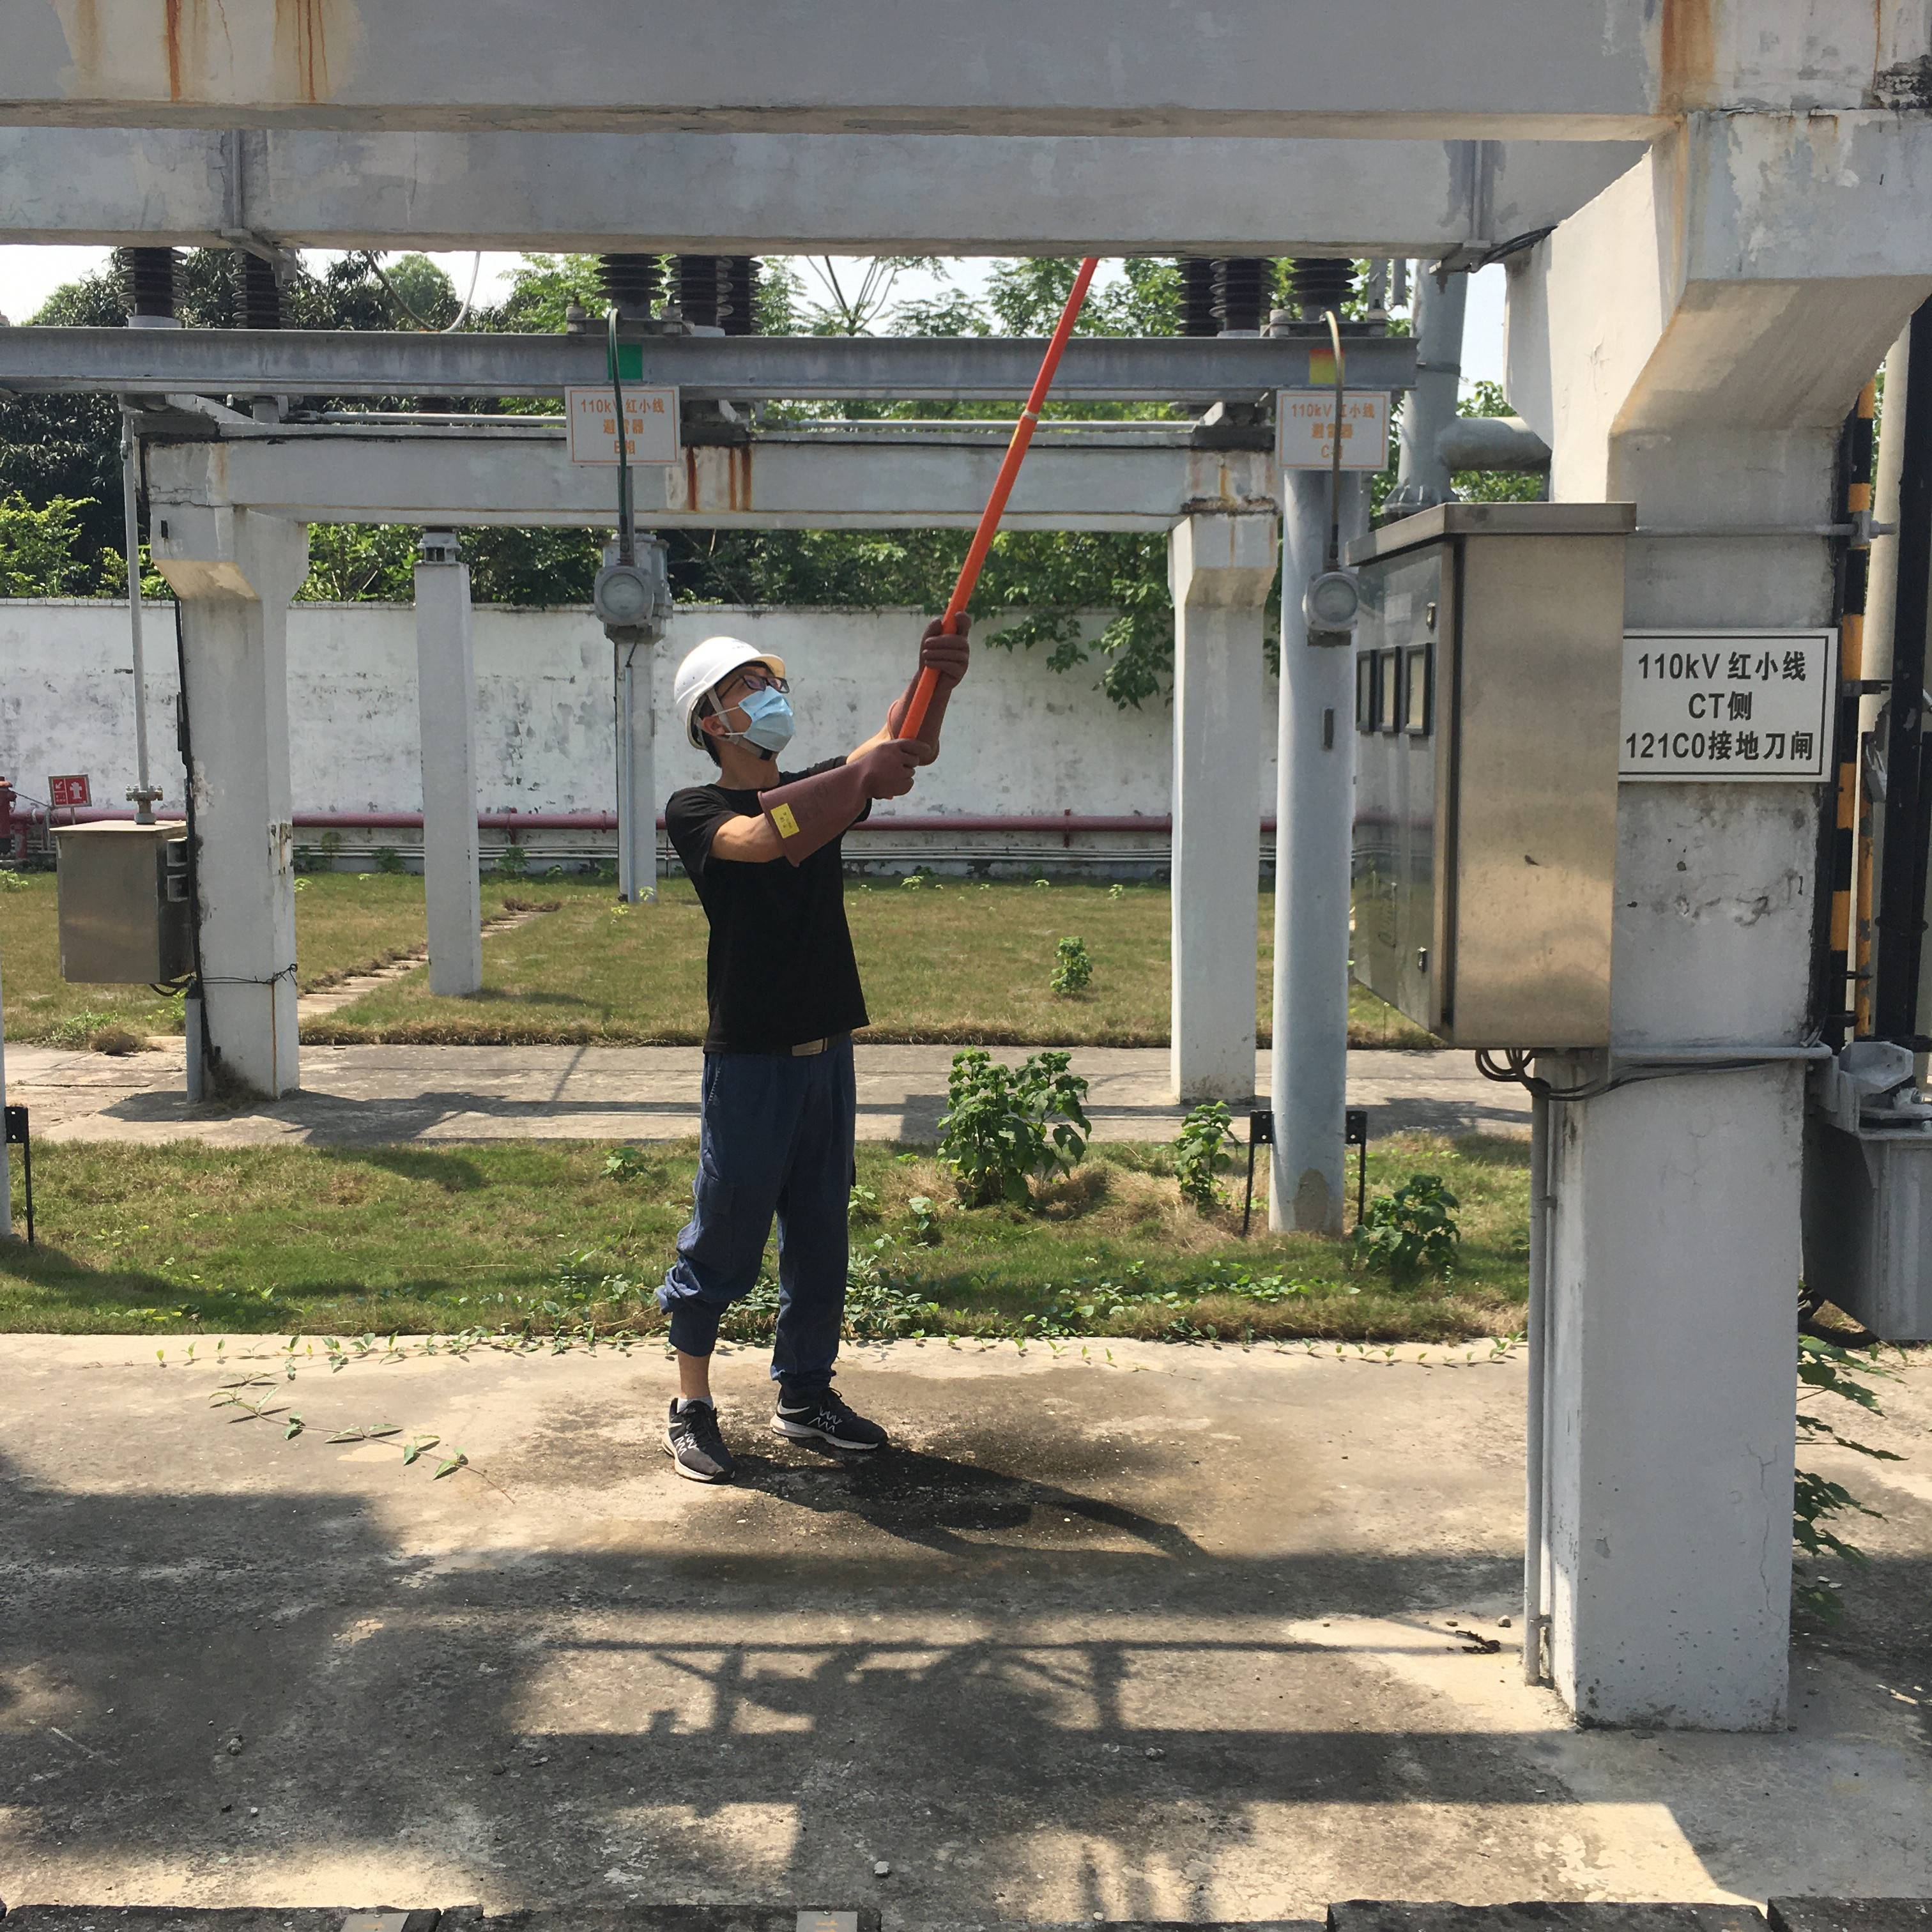downsuit: (656, 1046, 869, 1384)
upcloth: (662, 780, 867, 1030)
wrongbottom: (665, 1299, 727, 1415)
